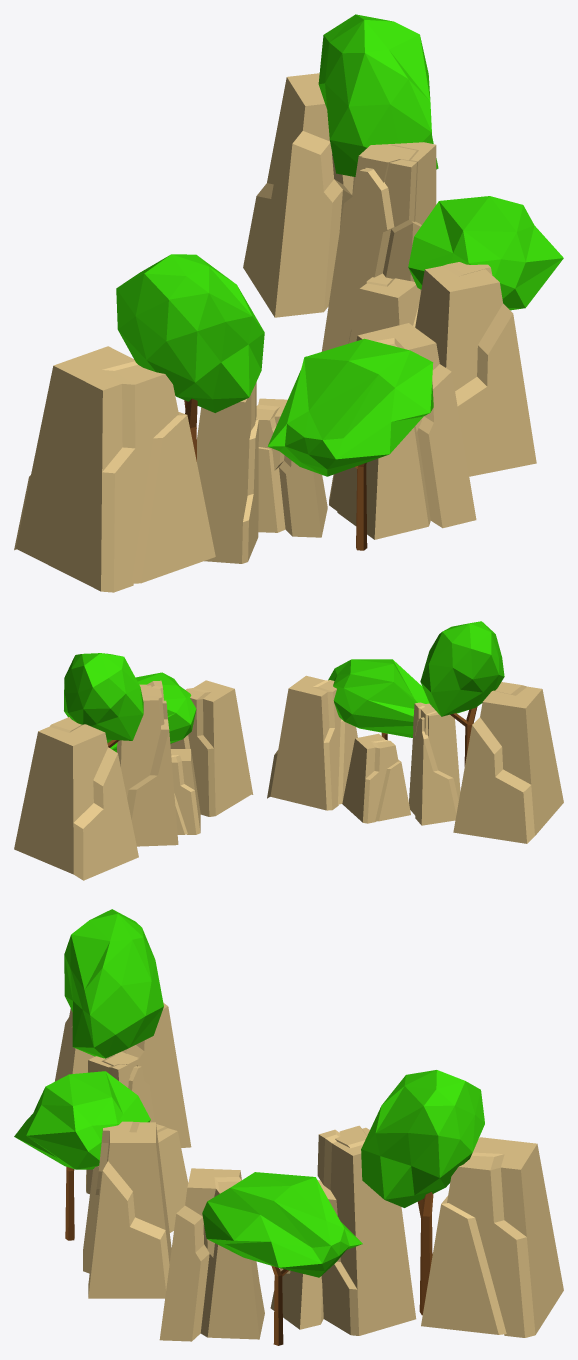
Rendered from map2.FBX.
3 renders of one model, top to bottom at view 1: azimuth 30°, elevation 25°; view 2: azimuth 150°, elevation 25°; view 3: azimuth 270°, elevation 25°, orthographic. The views are drawn at different scales.
Visible parts, largest first — view 1: Box023, GeoSphere003, Cylinder007; view 2: Box023, GeoSphere003, Cylinder007; view 3: Box023, GeoSphere003, Cylinder007.
Part boxes in pixels (x1,y1,x2,y2): Box023: (14, 73, 536, 592); GeoSphere003: (116, 14, 563, 476); Cylinder007: (184, 399, 367, 550); Box023: (14, 675, 563, 880); GeoSphere003: (64, 621, 504, 752); Cylinder007: (107, 706, 477, 766); Box023: (55, 1003, 563, 1341); GeoSphere003: (14, 909, 484, 1277); Cylinder007: (65, 1167, 433, 1345).
Bounding box in the file's own units: 684 × 645 × 347.
